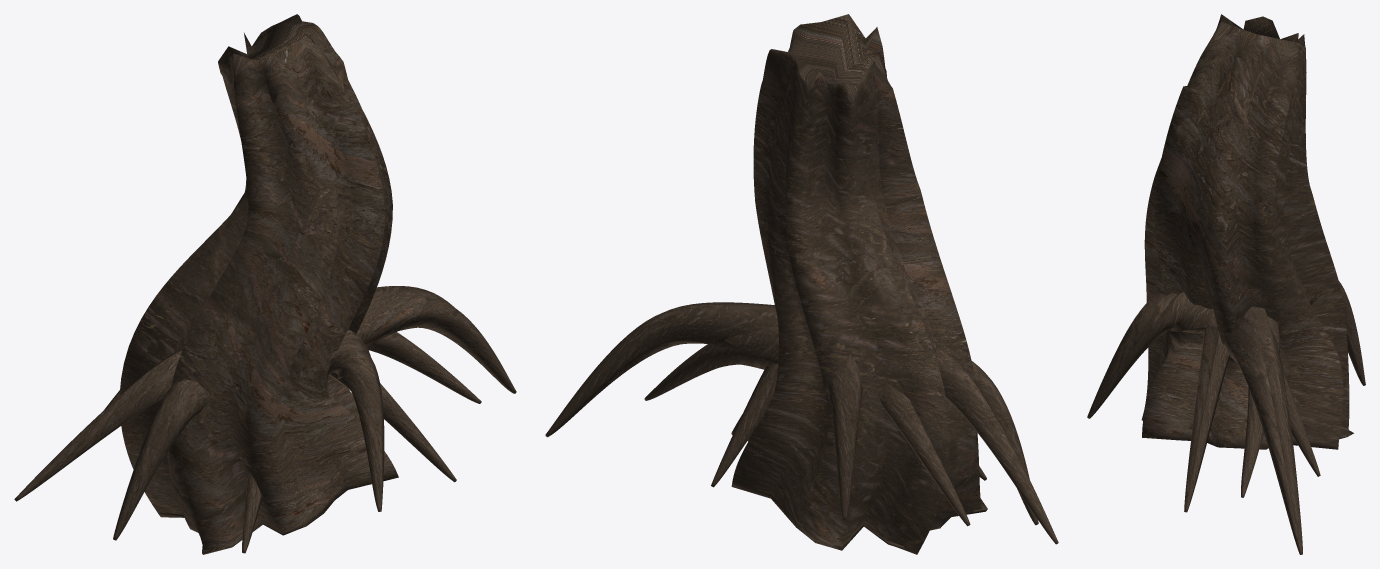
The model's file is wood-stump.glb.
3 views of the same model, side by side, from view 1: azimuth 30°, elevation 25°; view 2: azimuth 150°, elevation 25°; view 3: azimuth 270°, elevation 25° (orthographic). The views are drawn at different scales.
Visible parts, largest first — view 1: Weathered upright stump · export mesh; view 2: Weathered upright stump · export mesh; view 3: Weathered upright stump · export mesh.
Part boxes in pixels (left/top/right/bottom): Weathered upright stump · export mesh: left=14, top=14, right=516, bottom=554; Weathered upright stump · export mesh: left=545, top=14, right=1058, bottom=554; Weathered upright stump · export mesh: left=1087, top=14, right=1365, bottom=554.
Size of the model in its own units: 0.2116 by 0.1926 by 0.1086.
Materials: 1 (1 with a texture image).
